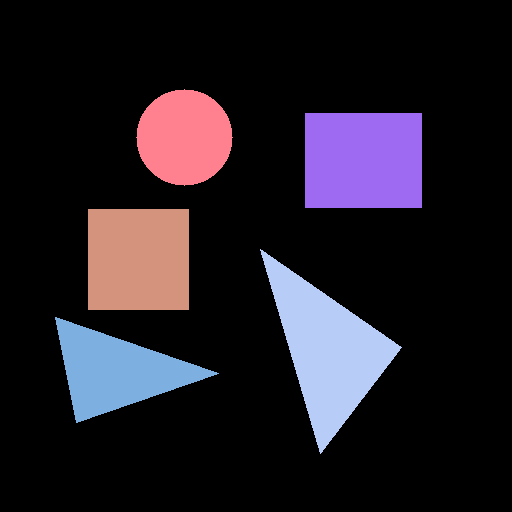circle: (136, 89, 232, 185)
rectangle: (305, 113, 421, 207)
square: (88, 209, 188, 309)
triangle: (260, 249, 401, 453), (55, 317, 218, 422)
